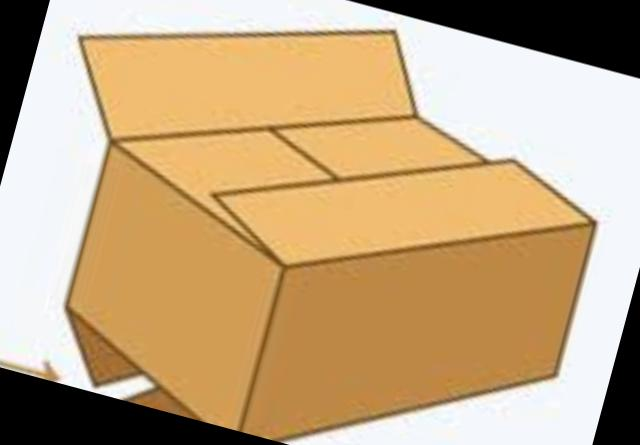cardboard paper: (63, 25, 590, 436)
